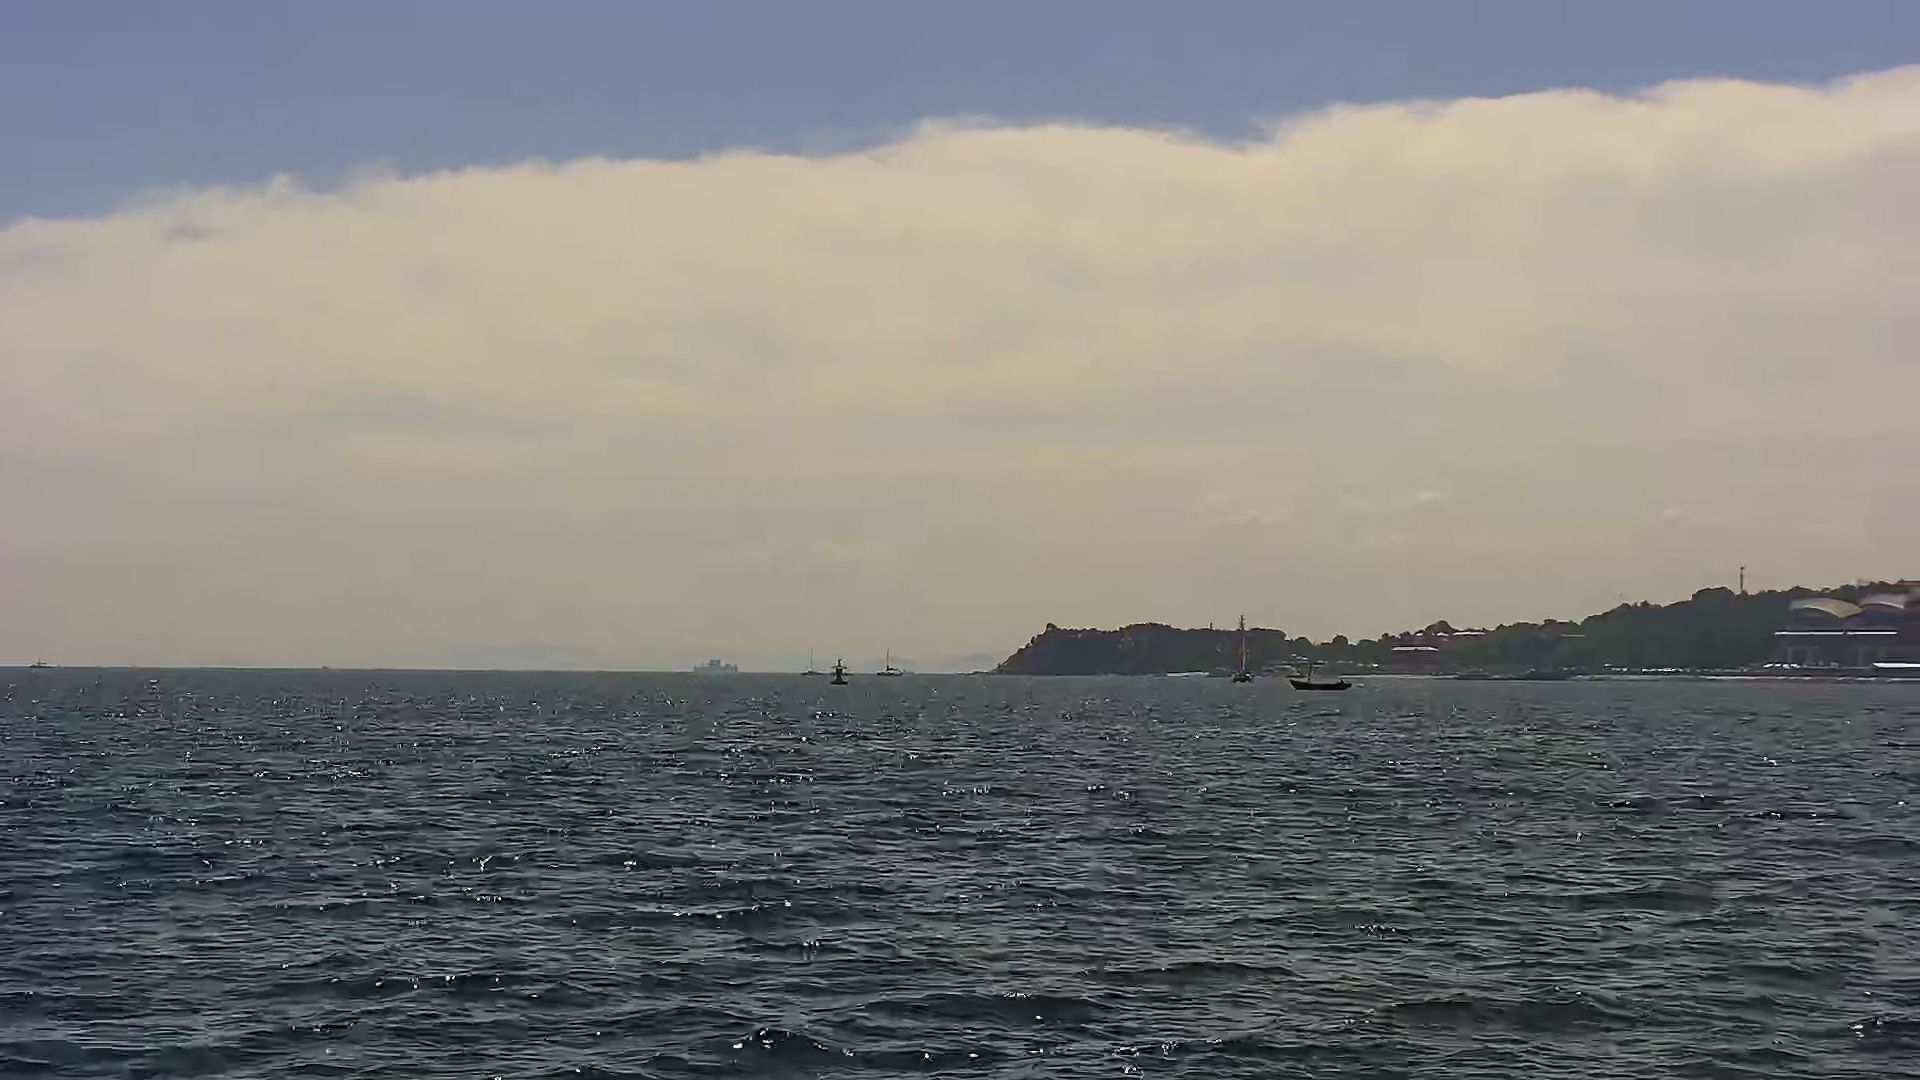boat: (1286, 680, 1352, 688)
buoy: (829, 659, 849, 687)
platform: (692, 659, 746, 676)
